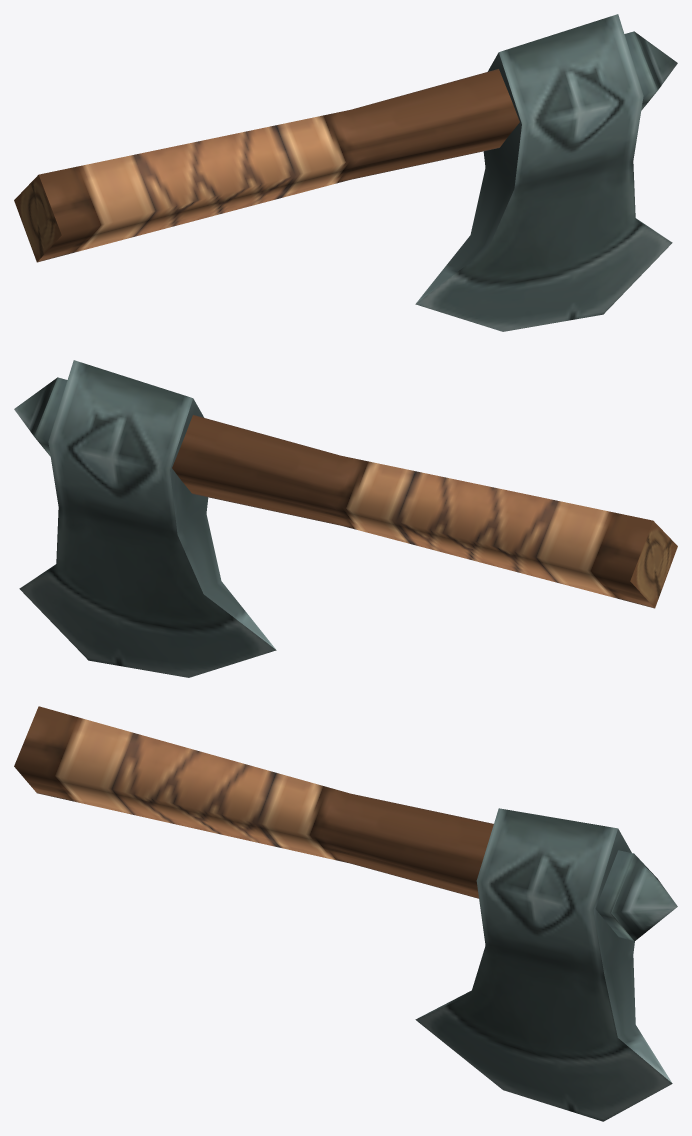
File: DWF_Weapon_axe_A.FBX
The picture shows the model from 3 angles, top to bottom: view 1: azimuth 30°, elevation 25°; view 2: azimuth 150°, elevation 25°; view 3: azimuth 330°, elevation 25°; orthographic projection.
Visible parts, largest first — view 1: DWF_Weapon_axe_A; view 2: DWF_Weapon_axe_A; view 3: DWF_Weapon_axe_A.
Boxes of the visible parts, x1,y1,x2,y2 form: DWF_Weapon_axe_A: [14, 14, 677, 331]; DWF_Weapon_axe_A: [14, 360, 677, 677]; DWF_Weapon_axe_A: [14, 706, 677, 1121].
Size of the model in its own units: 34.29 by 15.18 by 4.65.
Materials: 1 (1 with a texture image).
